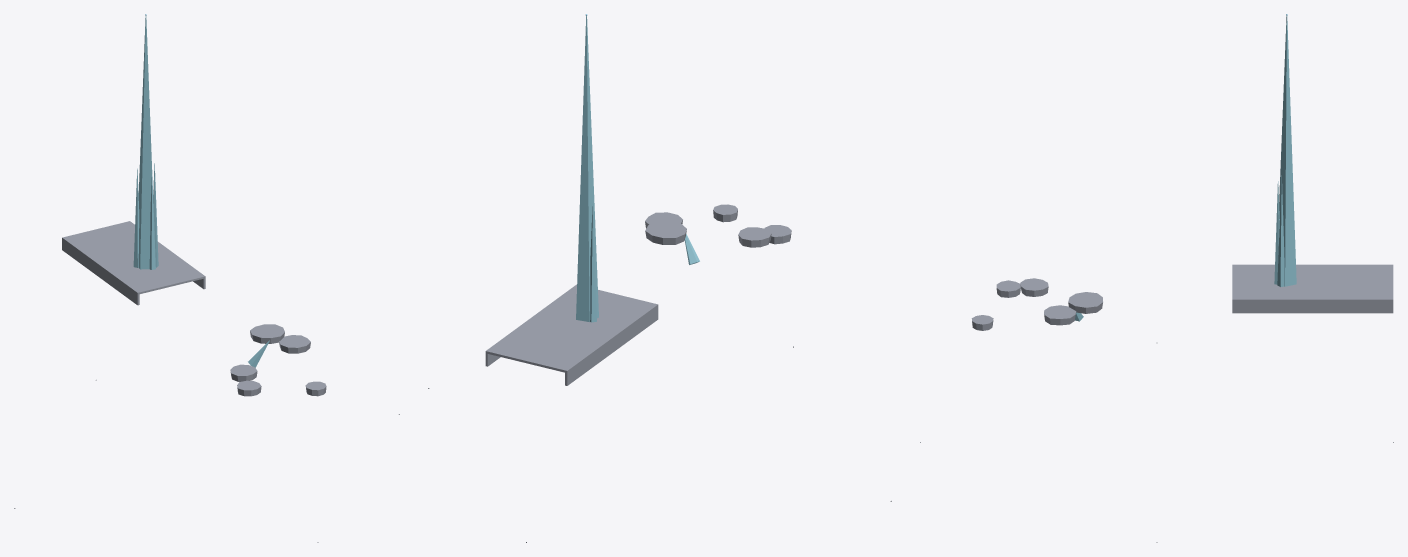
File: chunk_es_cap_unfinished_span.fbx
3 renders of one model, left to right at view 1: azimuth 30°, elevation 25°; view 2: azimuth 150°, elevation 25°; view 3: azimuth 270°, elevation 25°, orthographic. The views are drawn at different scales.
Visible parts, largest first — view 1: ES_CAP_UNFINISHED_SPAN; view 2: ES_CAP_UNFINISHED_SPAN; view 3: ES_CAP_UNFINISHED_SPAN.
Boxes of the visible parts, box(x1,y1,x2,y2) form: ES_CAP_UNFINISHED_SPAN: box(14, 14, 399, 542); ES_CAP_UNFINISHED_SPAN: box(428, 14, 891, 542); ES_CAP_UNFINISHED_SPAN: box(920, 14, 1393, 542).
Bounding box in the file's own units: 256 × 256 × 256.
